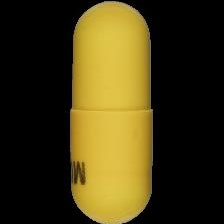0591-5694: (0, 0, 224, 224)
